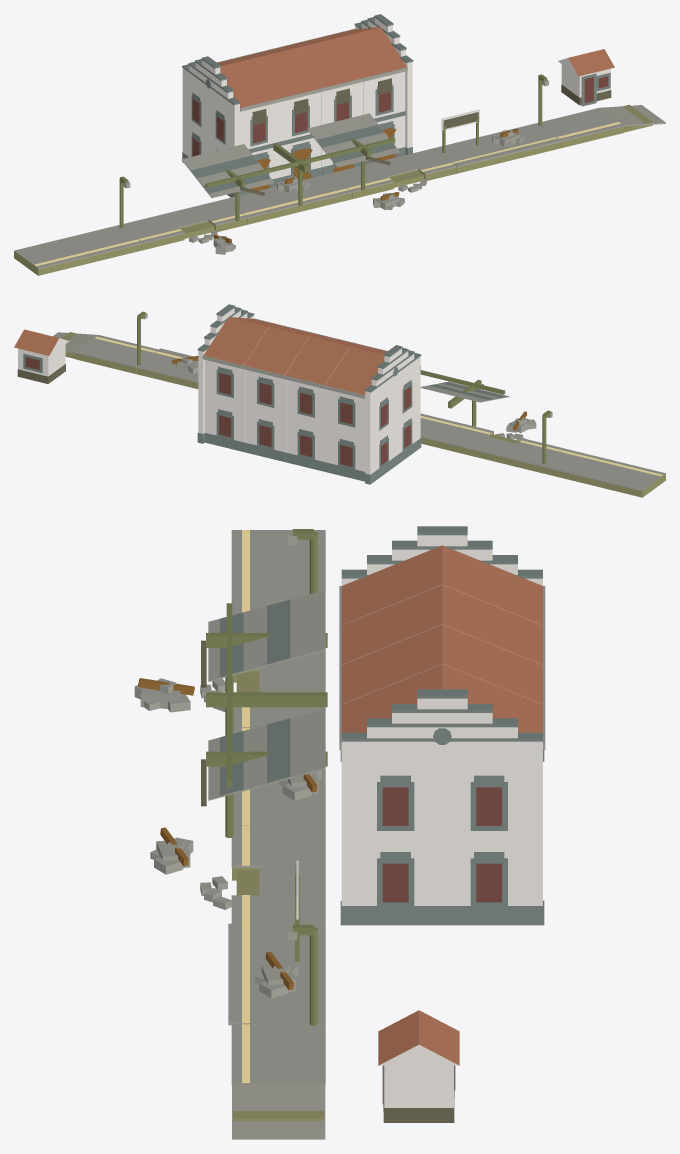
Rendered from SM_EstacionNules_v3_LOD1.fbx.
The picture shows the model from 3 angles, top to bottom: view 1: azimuth 30°, elevation 25°; view 2: azimuth 150°, elevation 25°; view 3: azimuth 270°, elevation 25°; orthographic projection. The views are drawn at different scales.
Visible parts, largest first — view 1: SM_bloques.estacion_nules_v3_LOD1; view 2: SM_bloques.estacion_nules_v3_LOD1; view 3: SM_bloques.estacion_nules_v3_LOD1.
Boxes of the visible parts, box(x1,y1,x2,y2) form: SM_bloques.estacion_nules_v3_LOD1: box(14, 14, 665, 275); SM_bloques.estacion_nules_v3_LOD1: box(14, 304, 665, 497); SM_bloques.estacion_nules_v3_LOD1: box(134, 526, 545, 1139).
Size of the model in its own units: 59.99 by 11 by 17.56.
